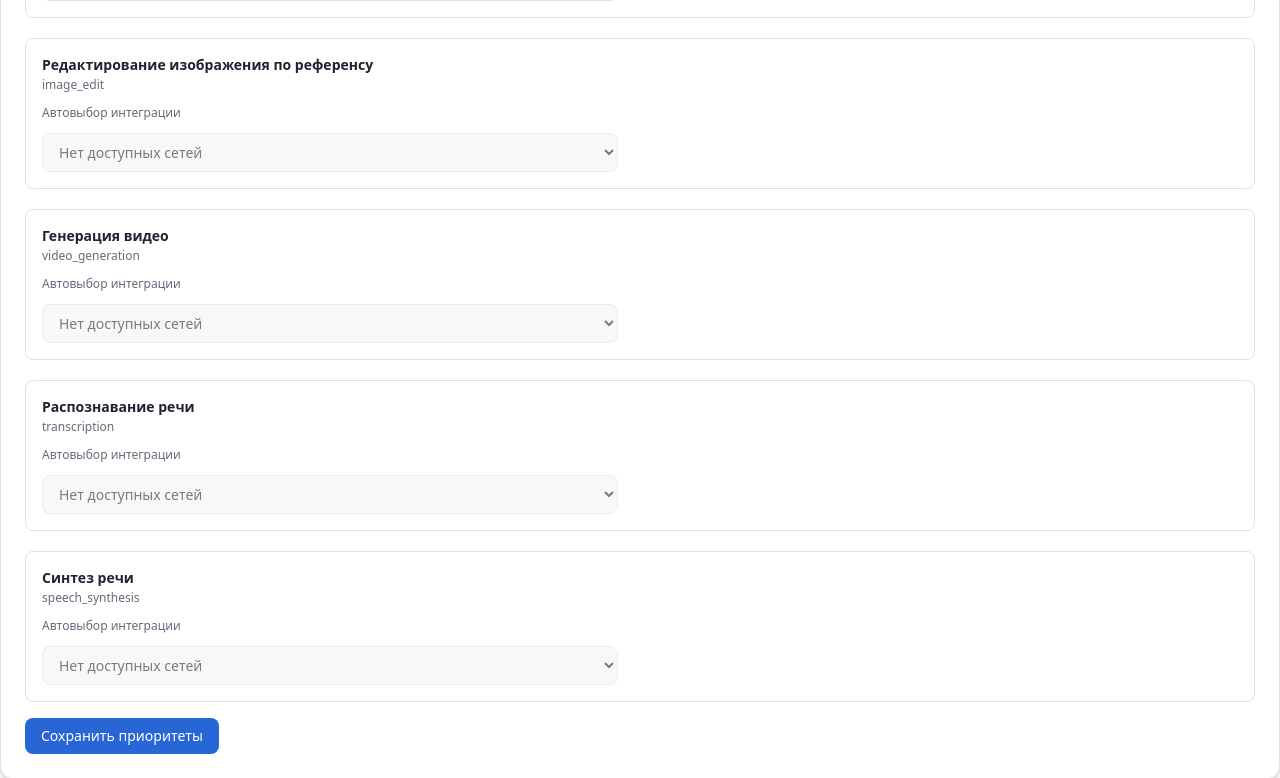
Scenario: AiAdminSection › keeps saved unavailable names visible until an admin removes them
The width and height of the screenshot is (1280, 778).
(page scrolled)
Click the button "Сохранить приоритеты" at (122, 736), box [25,718,219,754]
(page scrolled)
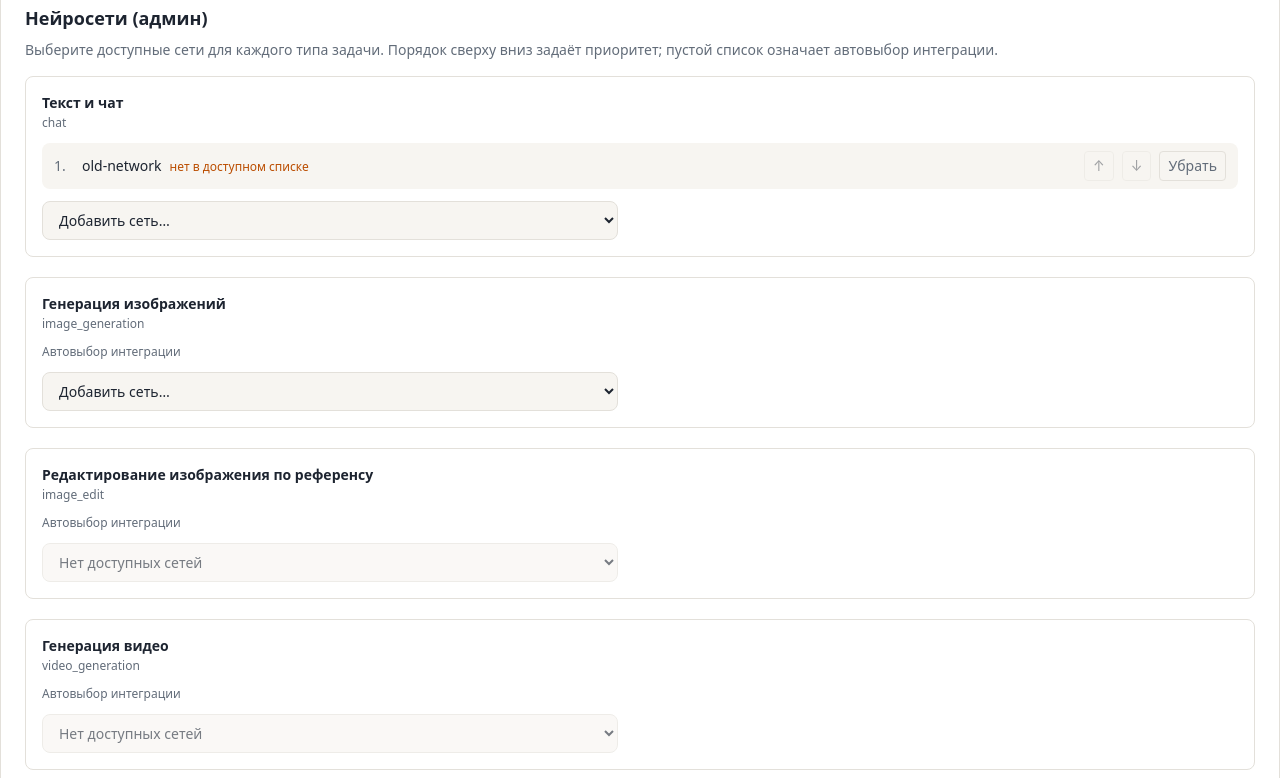
Click the button with aria-label "Убрать old-network из chat" at (1193, 166), box [1159,151,1226,181]
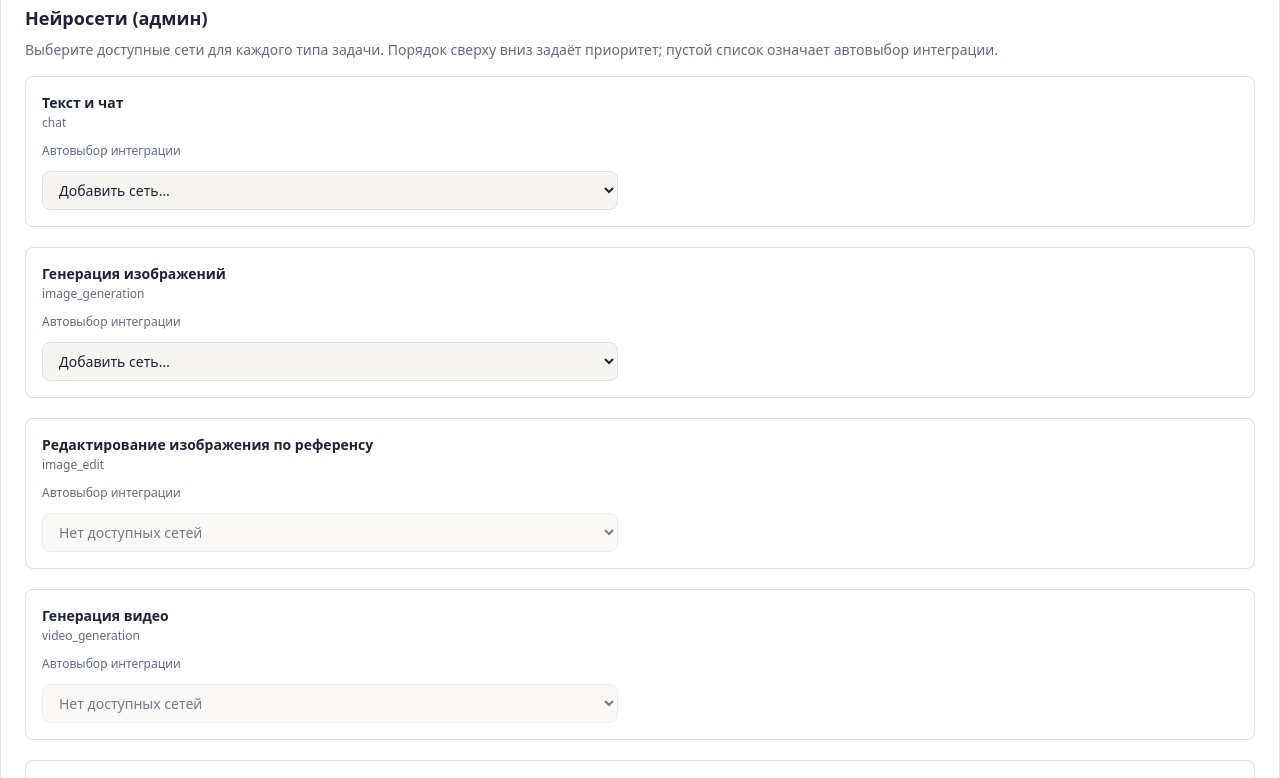
Check: the text "Автовыбор интеграции" is shown 6 times
